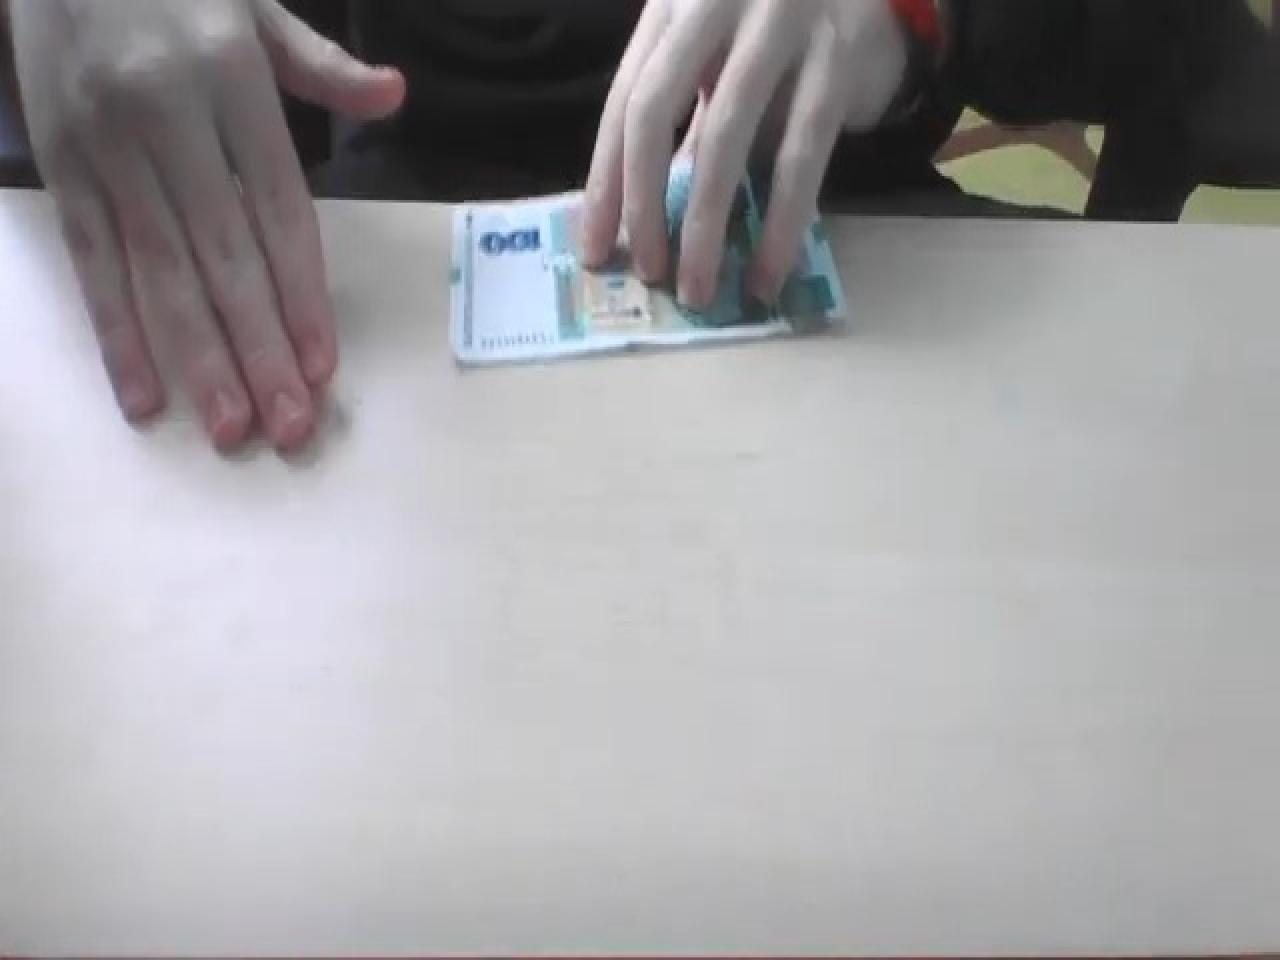100leva: (446, 162, 848, 368), (476, 221, 542, 256)
